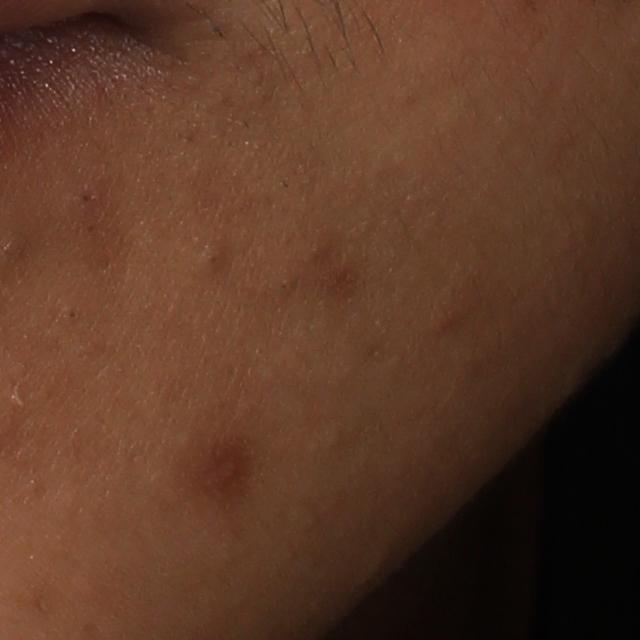comedo: (201, 240, 230, 274), (64, 306, 80, 322)
